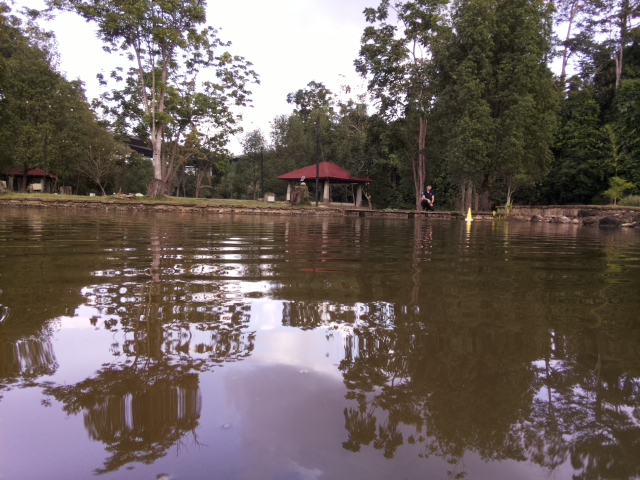checkpoint: (463, 205, 475, 222)
